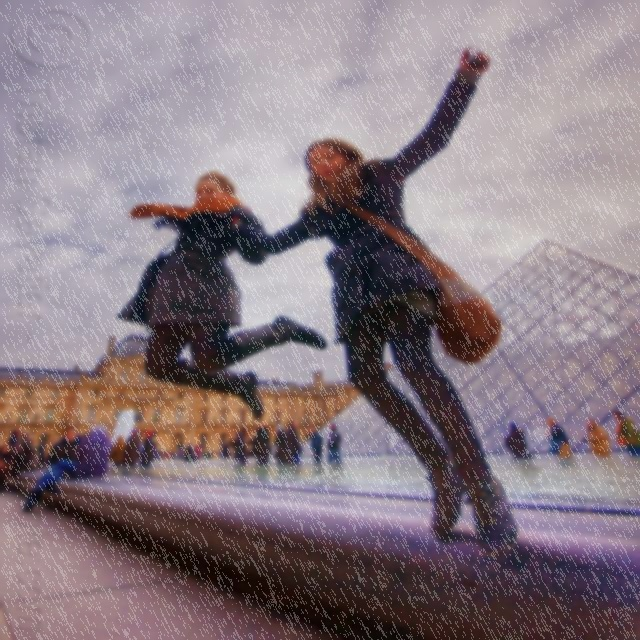pessoa: (226, 45, 522, 562), (110, 167, 329, 419), (20, 426, 86, 516), (55, 423, 113, 479), (0, 428, 46, 496), (500, 420, 538, 471), (153, 442, 235, 462), (245, 421, 272, 476), (611, 408, 639, 459), (542, 416, 576, 458), (582, 418, 614, 458), (226, 426, 252, 464), (285, 419, 306, 464), (324, 422, 344, 464), (306, 426, 326, 468), (109, 433, 128, 468), (126, 428, 142, 455), (143, 430, 159, 456), (274, 424, 284, 439), (246, 443, 253, 458)
